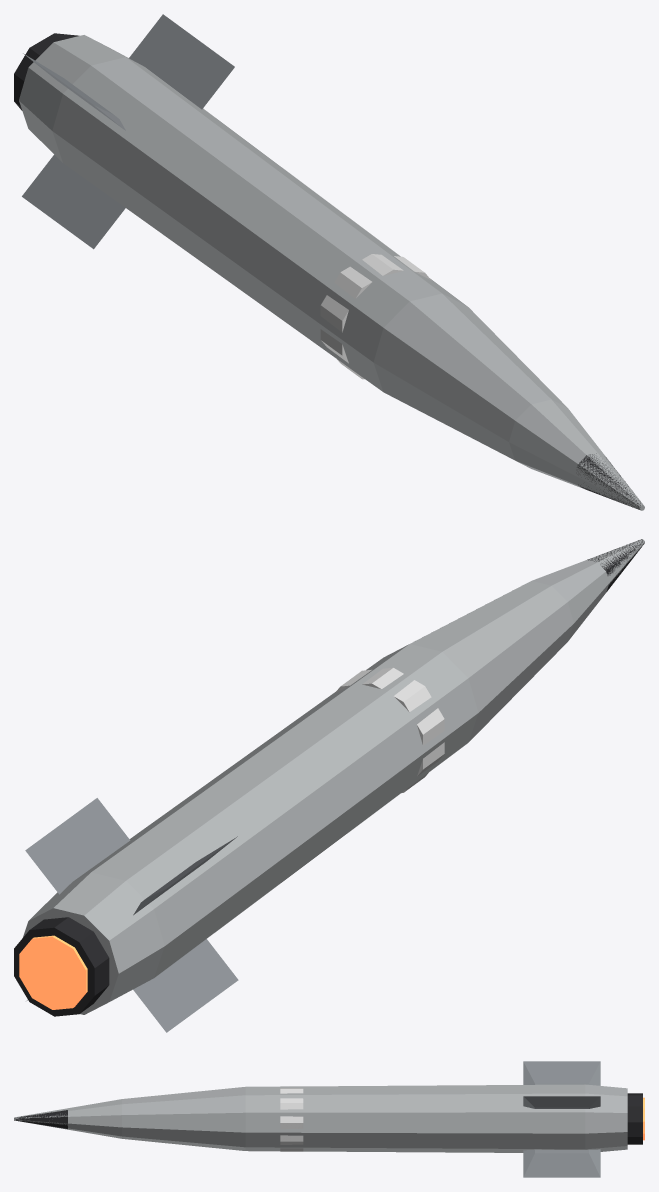
File: hypersonic_missile.glb
The picture shows the model from 3 angles, top to bottom: view 1: azimuth 30°, elevation 25°; view 2: azimuth 150°, elevation 25°; view 3: azimuth 270°, elevation 25°; orthographic projection. The views are drawn at different scales.
Visible parts, largest first — view 1: Body; view 2: Body; view 3: Body.
Boxes of the visible parts, x1,y1,x2,y2 form: Body: [14, 14, 644, 510]; Body: [14, 539, 644, 1032]; Body: [14, 1061, 644, 1177].
Size of the model in its own units: 1.13 by 1.16 by 8.17.
